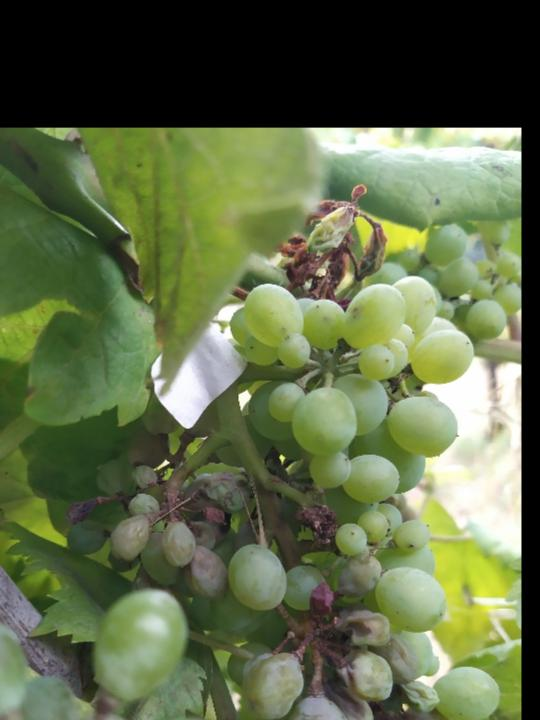grape: (105, 271, 504, 720)
